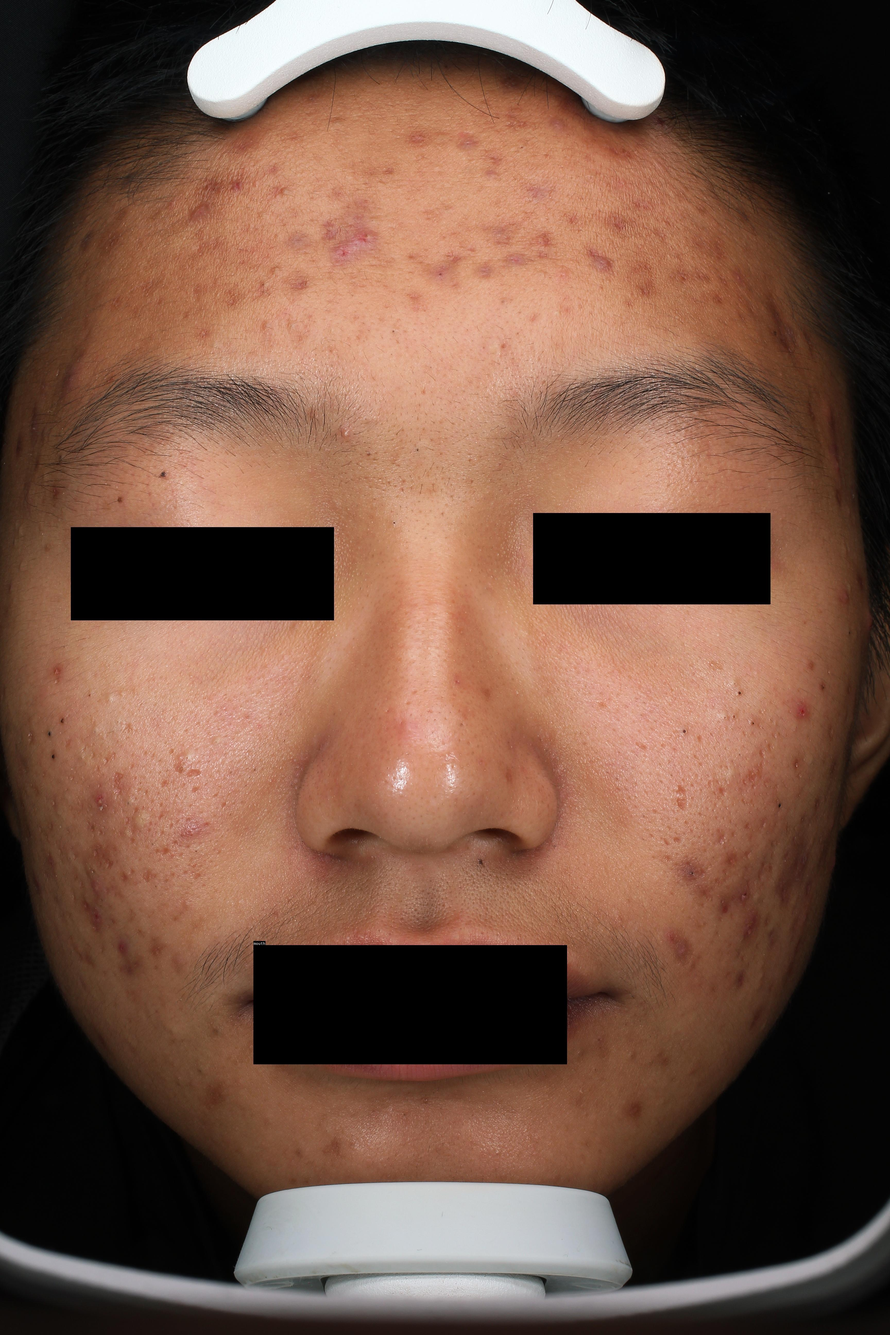atrophic_scar: (768, 294, 799, 358), (192, 224, 229, 260), (168, 782, 192, 827), (774, 874, 798, 910), (602, 212, 636, 236), (516, 180, 553, 202), (789, 842, 808, 883), (487, 223, 519, 247), (617, 749, 641, 780), (50, 890, 70, 924), (420, 204, 452, 225), (116, 953, 143, 977), (735, 284, 758, 312), (76, 976, 99, 1004), (403, 291, 432, 313), (69, 936, 87, 966), (142, 1003, 160, 1032), (747, 1007, 766, 1033), (321, 1136, 344, 1157), (14, 745, 30, 774), (28, 868, 42, 901), (505, 108, 526, 129), (733, 965, 748, 993), (738, 786, 755, 809), (736, 300, 749, 330), (285, 276, 311, 291), (803, 329, 815, 361), (675, 784, 689, 811), (827, 753, 840, 781), (668, 268, 690, 284), (112, 772, 125, 799), (435, 229, 459, 243), (196, 794, 211, 816), (529, 266, 551, 281), (117, 816, 131, 839), (223, 288, 239, 308), (718, 898, 733, 919), (824, 778, 836, 803), (435, 751, 460, 763), (767, 928, 778, 955), (141, 868, 159, 884), (716, 758, 732, 776), (638, 281, 658, 295), (561, 212, 581, 226), (631, 198, 652, 211), (111, 798, 126, 816), (131, 807, 138, 844), (71, 872, 85, 890), (102, 750, 117, 766), (485, 153, 503, 166), (712, 792, 724, 811), (477, 264, 493, 278), (152, 846, 172, 857), (506, 254, 525, 265), (529, 313, 545, 326), (37, 904, 46, 927), (171, 762, 185, 776), (699, 888, 713, 902), (120, 720, 133, 735), (444, 251, 460, 263), (186, 768, 202, 780), (755, 759, 764, 780), (634, 740, 650, 751), (773, 812, 780, 837), (834, 490, 844, 507), (427, 483, 438, 498), (718, 833, 729, 848), (190, 841, 205, 852), (746, 768, 756, 784), (717, 785, 729, 798), (758, 863, 765, 885), (102, 857, 113, 871), (86, 862, 97, 876), (69, 883, 76, 904), (679, 856, 695, 865), (158, 810, 169, 823), (184, 857, 197, 868), (744, 848, 754, 862), (698, 866, 708, 880), (410, 134, 425, 143), (723, 798, 732, 813), (119, 869, 128, 884), (269, 162, 279, 175), (188, 870, 201, 880), (661, 854, 674, 864), (381, 167, 395, 176), (198, 328, 209, 339), (457, 241, 472, 249), (94, 765, 104, 777), (86, 820, 96, 832), (767, 864, 773, 883), (170, 838, 180, 849), (672, 836, 683, 846), (152, 946, 162, 957), (759, 747, 767, 760), (177, 852, 190, 860), (805, 882, 811, 899), (159, 778, 169, 788), (575, 227, 585, 237), (743, 821, 753, 831), (765, 913, 772, 927), (466, 246, 478, 254), (64, 737, 72, 749), (57, 847, 62, 866), (771, 784, 778, 797), (28, 731, 35, 744), (129, 792, 136, 804), (783, 850, 790, 862), (83, 899, 90, 911), (643, 262, 652, 271), (714, 877, 722, 887), (828, 726, 834, 739), (698, 734, 704, 747), (767, 741, 774, 752), (735, 949, 742, 960), (759, 708, 767, 717), (763, 779, 771, 788), (632, 265, 641, 273), (81, 744, 87, 756), (707, 780, 713, 792), (771, 731, 778, 741), (191, 786, 201, 793), (663, 837, 670, 847), (793, 758, 799, 769), (168, 864, 179, 870), (792, 835, 797, 848), (53, 668, 60, 677), (220, 801, 227, 810), (134, 785, 141, 794), (352, 315, 361, 322), (185, 843, 195, 849), (53, 488, 59, 498), (815, 797, 819, 811), (166, 748, 174, 755), (666, 825, 673, 833), (180, 870, 188, 877), (128, 868, 135, 876), (159, 828, 166, 836), (421, 385, 426, 396), (169, 870, 175, 879), (161, 879, 170, 885), (91, 748, 95, 761), (421, 689, 434, 693), (846, 684, 851, 694), (741, 779, 748, 786), (136, 858, 143, 865), (97, 829, 104, 836), (742, 730, 748, 738), (559, 271, 567, 277), (500, 343, 508, 349), (410, 689, 418, 695), (732, 847, 738, 855), (758, 721, 763, 730), (399, 486, 405, 493), (213, 792, 220, 798), (204, 821, 210, 828), (426, 708, 433, 714), (465, 706, 471, 713), (727, 859, 734, 865), (652, 809, 658, 816), (762, 820, 766, 830), (731, 831, 736, 839), (723, 868, 728, 876), (771, 851, 775, 861), (72, 853, 77, 861), (143, 790, 149, 796), (38, 825, 42, 834), (22, 790, 28, 796), (129, 763, 134, 770), (217, 850, 222, 857), (19, 733, 23, 741), (143, 750, 147, 758), (751, 784, 757, 789), (406, 700, 412, 705), (148, 820, 153, 826), (133, 775, 137, 782), (93, 850, 97, 857), (70, 775, 74, 782), (467, 453, 473, 457), (97, 783, 101, 789), (209, 859, 213, 865), (153, 830, 156, 838), (49, 823, 53, 829), (771, 840, 774, 847), (147, 828, 150, 835), (752, 730, 756, 735), (798, 773, 802, 778), (55, 679, 59, 684), (776, 841, 780, 846), (215, 840, 219, 845), (155, 792, 160, 796), (85, 847, 90, 851), (53, 801, 56, 807), (30, 783, 33, 789), (433, 675, 438, 678), (66, 776, 69, 780), (65, 788, 68, 791), (67, 830, 70, 833)
closed_comedo: (258, 210, 270, 220), (271, 267, 282, 277), (262, 320, 271, 331), (755, 981, 762, 991), (118, 689, 127, 696), (842, 545, 848, 555), (253, 179, 260, 187), (629, 1051, 636, 1059), (288, 321, 295, 329), (55, 809, 62, 816), (759, 961, 766, 968), (759, 972, 765, 980), (846, 583, 852, 591), (18, 526, 23, 534), (18, 562, 23, 570), (554, 310, 560, 316), (716, 632, 722, 638), (237, 899, 243, 905), (459, 629, 464, 635), (41, 473, 46, 479), (858, 625, 862, 632), (185, 901, 190, 906), (854, 630, 858, 636), (13, 539, 16, 546), (503, 550, 508, 554), (476, 659, 481, 663), (423, 1098, 427, 1103), (779, 372, 783, 376), (293, 759, 297, 763), (296, 766, 300, 770), (495, 652, 499, 656), (14, 523, 18, 527), (479, 547, 482, 552), (541, 633, 546, 636), (737, 276, 740, 280), (501, 554, 504, 558), (577, 1051, 580, 1055), (497, 553, 500, 556), (491, 575, 494, 578), (177, 1077, 180, 1080), (509, 560, 511, 563)
hypertrophic_scar: (180, 819, 201, 840), (323, 221, 340, 241), (134, 811, 151, 829), (501, 77, 521, 91), (182, 747, 196, 762), (92, 723, 103, 738), (210, 736, 222, 747), (717, 710, 729, 721), (105, 693, 114, 702), (92, 726, 98, 733)
melasma: (595, 700, 609, 712)
nevus: (158, 469, 167, 478), (116, 495, 123, 504), (477, 859, 483, 866), (366, 451, 371, 457), (88, 694, 91, 697)
nodule: (60, 348, 87, 399)
open_comedo: (516, 932, 523, 941), (50, 753, 56, 760), (60, 717, 65, 725), (47, 730, 52, 738), (260, 281, 266, 287), (495, 931, 501, 937), (733, 680, 738, 687), (777, 802, 782, 809), (682, 729, 688, 734), (415, 447, 421, 452), (392, 520, 397, 526), (228, 770, 234, 775), (170, 853, 175, 859), (387, 931, 393, 936), (437, 272, 444, 276), (827, 668, 831, 675), (731, 715, 738, 719), (737, 690, 742, 695), (723, 715, 728, 720), (785, 698, 790, 703), (500, 299, 505, 304), (391, 329, 396, 334), (247, 775, 252, 780), (743, 892, 748, 897), (494, 1152, 499, 1157), (520, 145, 526, 149), (375, 928, 381, 932), (359, 585, 362, 592), (847, 631, 851, 636), (498, 462, 502, 467), (282, 738, 286, 743), (720, 899, 724, 904), (403, 1112, 407, 1117), (253, 768, 257, 772), (316, 770, 320, 774), (553, 844, 557, 848), (593, 1068, 597, 1072), (154, 884, 158, 888), (126, 801, 129, 806), (738, 752, 741, 757), (367, 329, 371, 332), (424, 537, 428, 540), (597, 1038, 600, 1042), (297, 1151, 301, 1154), (199, 1069, 202, 1073), (216, 1029, 219, 1033), (649, 1060, 651, 1065), (288, 678, 291, 681), (194, 850, 197, 853), (482, 346, 485, 349), (360, 571, 362, 575), (717, 830, 720, 832), (326, 1129, 328, 1132), (69, 857, 71, 860)
papule: (350, 230, 374, 252), (741, 914, 759, 939), (332, 243, 351, 264), (821, 404, 834, 428), (830, 456, 843, 478), (189, 206, 206, 220), (594, 257, 612, 270), (30, 414, 40, 436), (627, 1103, 641, 1118), (459, 138, 476, 150), (865, 609, 874, 630), (550, 118, 565, 130), (24, 483, 35, 499), (666, 929, 677, 945), (795, 705, 807, 717), (92, 910, 103, 923), (91, 880, 102, 893), (800, 912, 809, 926), (34, 458, 43, 472), (678, 946, 687, 959), (487, 169, 498, 179), (118, 942, 127, 953), (842, 589, 849, 603), (281, 187, 290, 197), (40, 428, 46, 440), (7, 582, 13, 593), (709, 661, 717, 669), (689, 1068, 696, 1076), (176, 754, 184, 761), (169, 200, 176, 207), (666, 253, 672, 259), (677, 256, 682, 263), (754, 670, 759, 675), (793, 728, 797, 733), (774, 722, 778, 726)
pustule: (537, 236, 546, 245), (344, 429, 350, 438), (96, 797, 102, 805), (750, 720, 757, 726), (109, 374, 114, 381)
